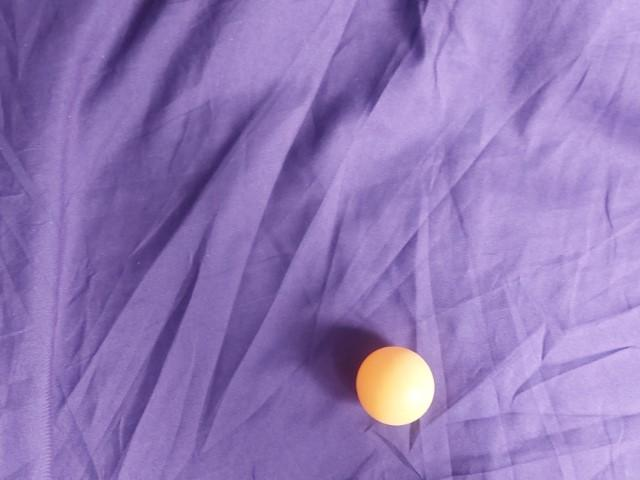oball: (200, 49, 290, 140)
